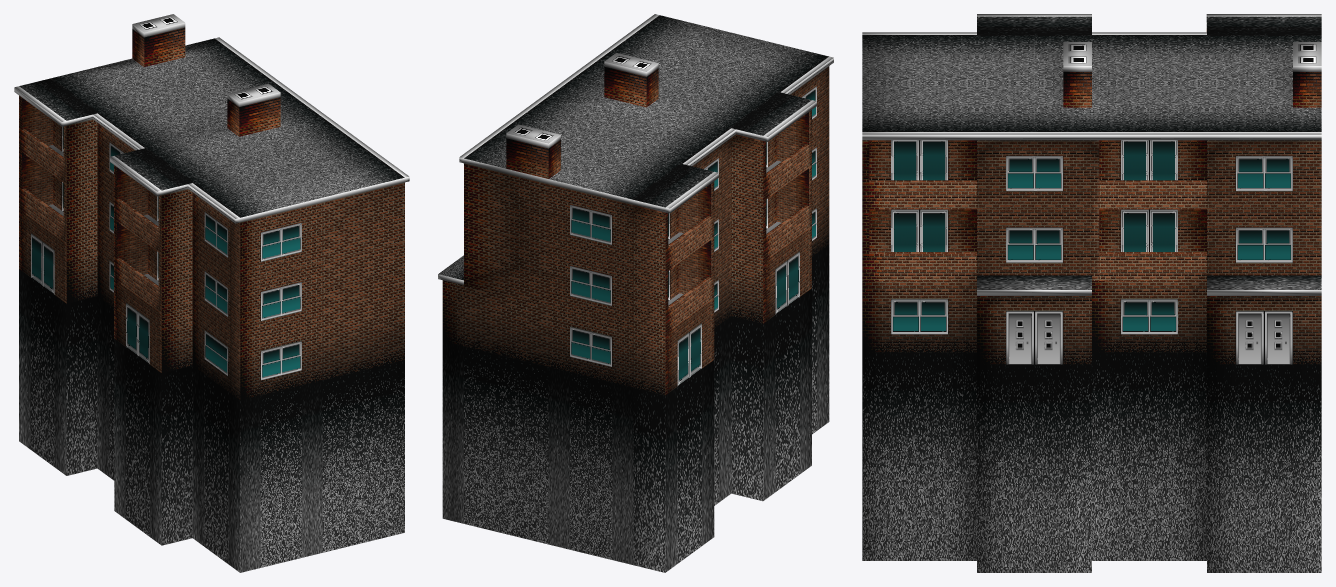
File: maisonet_mod3_2a.fbx
3 renders of one model, left to right at view 1: azimuth 30°, elevation 25°; view 2: azimuth 150°, elevation 25°; view 3: azimuth 270°, elevation 25°, orthographic. The views are drawn at different scales.
Visible parts, largest first — view 1: maisonet_mod3_2a; view 2: maisonet_mod3_2a; view 3: maisonet_mod3_2a.
Part boxes in pixels (left/top/right/bottom): maisonet_mod3_2a: left=14, top=14, right=409, bottom=572; maisonet_mod3_2a: left=438, top=14, right=833, bottom=572; maisonet_mod3_2a: left=862, top=14, right=1321, bottom=572.
Size of the model in its own units: 1231 by 2033 by 1800.
